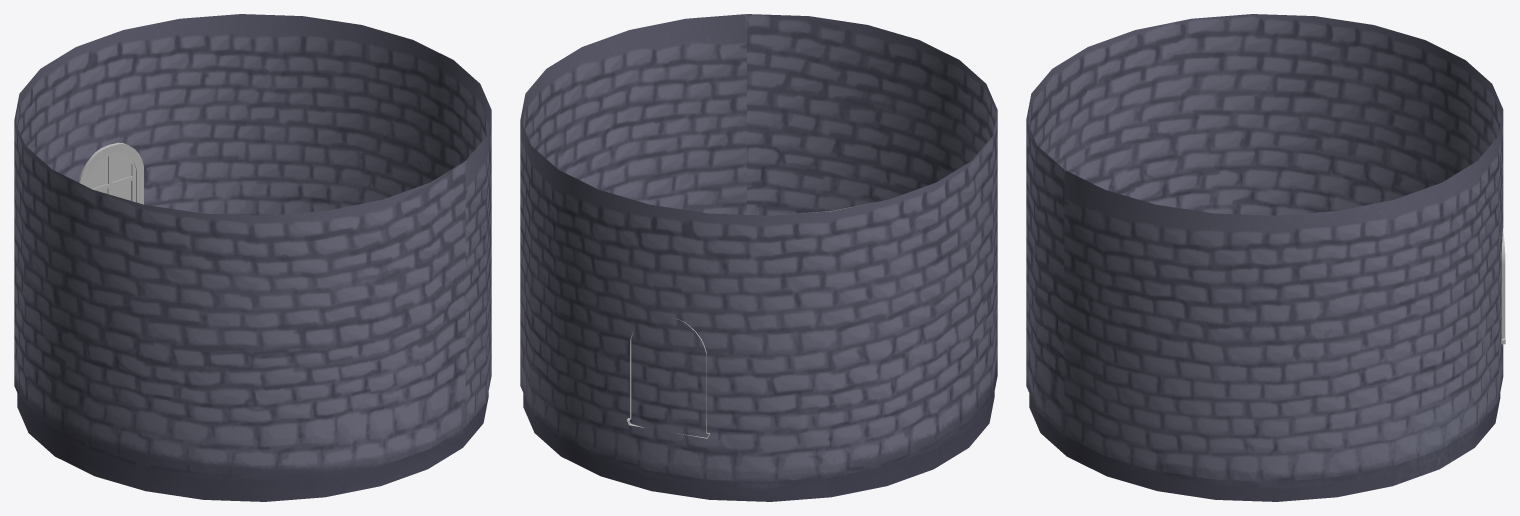
Rendered from RoomModel.fbx.
The picture shows the model from 3 angles, left to right: view 1: azimuth 30°, elevation 25°; view 2: azimuth 150°, elevation 25°; view 3: azimuth 270°, elevation 25°; orthographic projection.
Visible parts, largest first — view 1: Walls, Window; view 2: Walls; view 3: Walls.
Part boxes in pixels (x1=…): Walls: x1=14, y1=14, x2=491, y2=501; Window: x1=78, y1=142, x2=143, y2=204; Walls: x1=520, y1=14, x2=997, y2=501; Walls: x1=1026, y1=14, x2=1503, y2=501.
Size of the model in its own units: 602 by 400 by 605.
